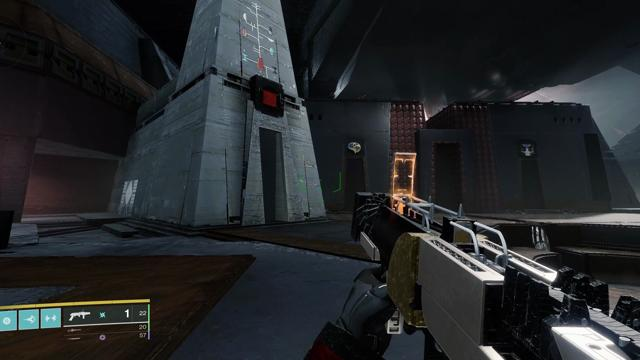brain: (347, 141, 362, 155)
drink: (520, 141, 535, 156)
stop: (259, 86, 279, 111)
